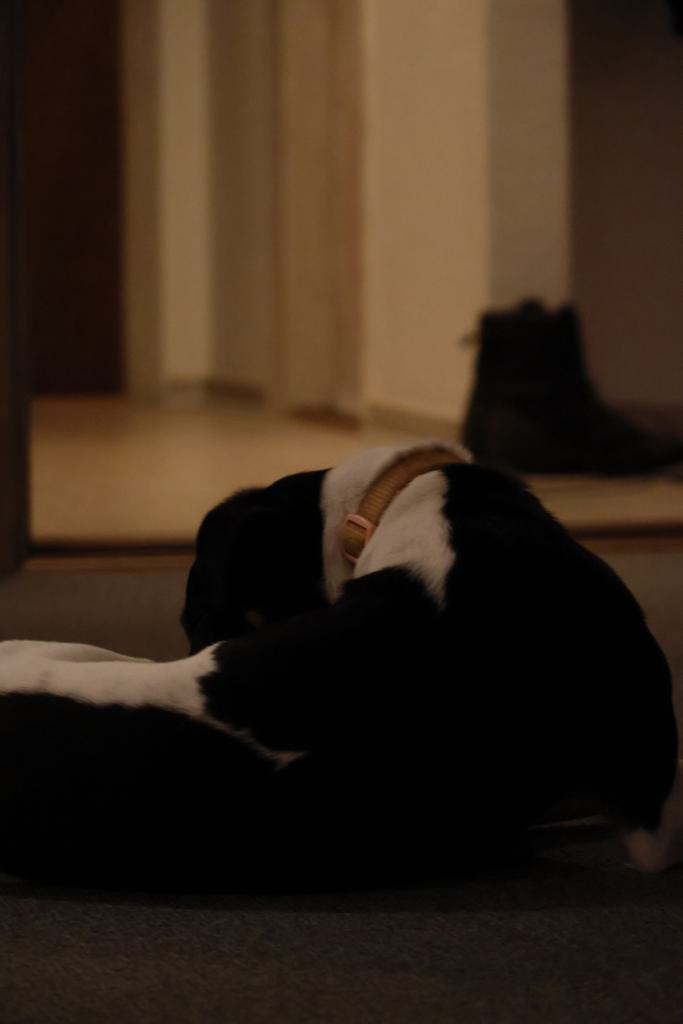Dog: (0, 429, 683, 922)
